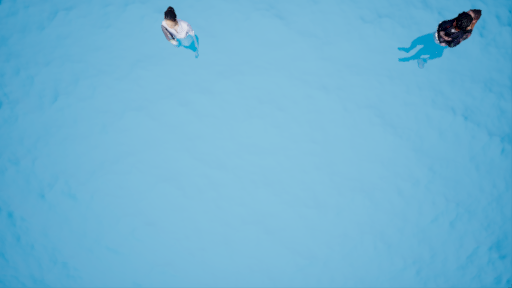person: (393, 6, 486, 69), (152, 5, 206, 64)
